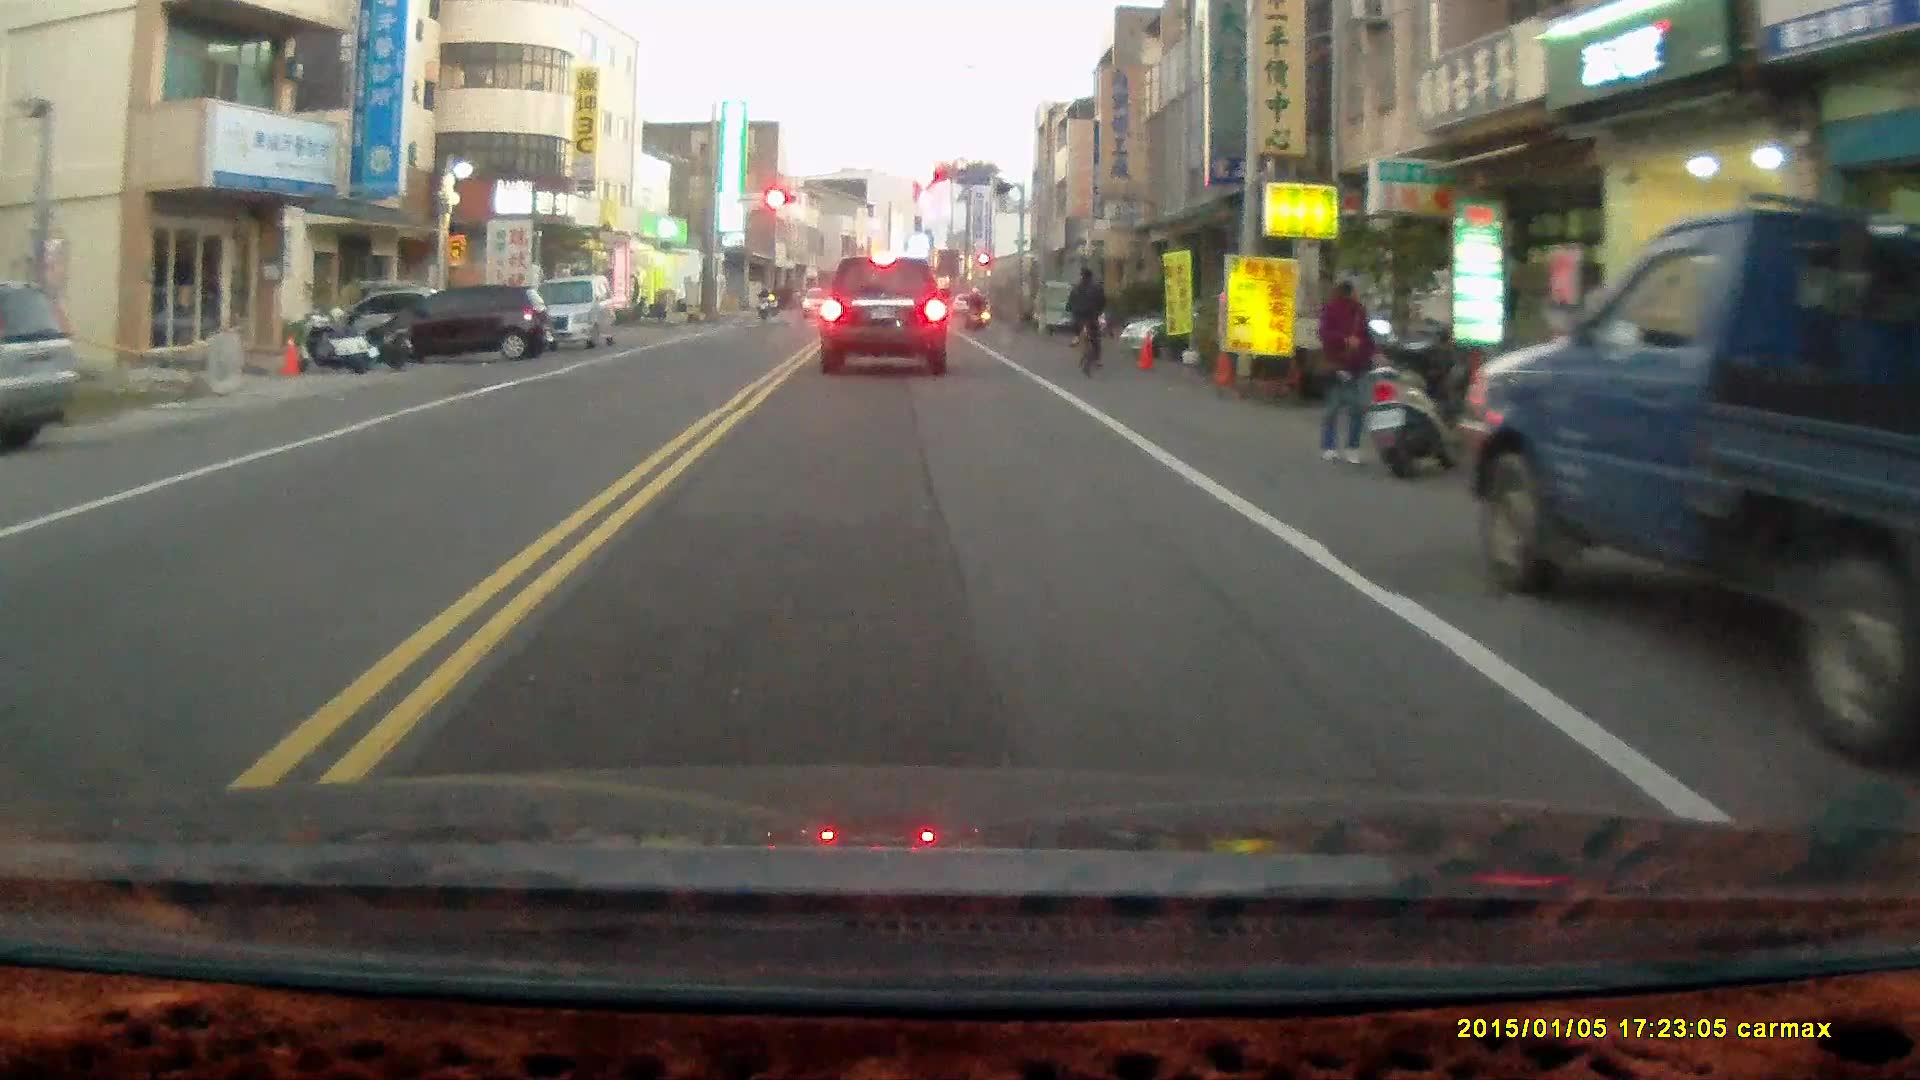pedestrian: (1311, 279, 1377, 469)
rider: (1066, 265, 1110, 375), (964, 287, 986, 333), (754, 287, 774, 322)
vehicle: (1463, 196, 1920, 725), (818, 257, 954, 376), (380, 282, 557, 369), (0, 277, 83, 455), (514, 274, 620, 357)
